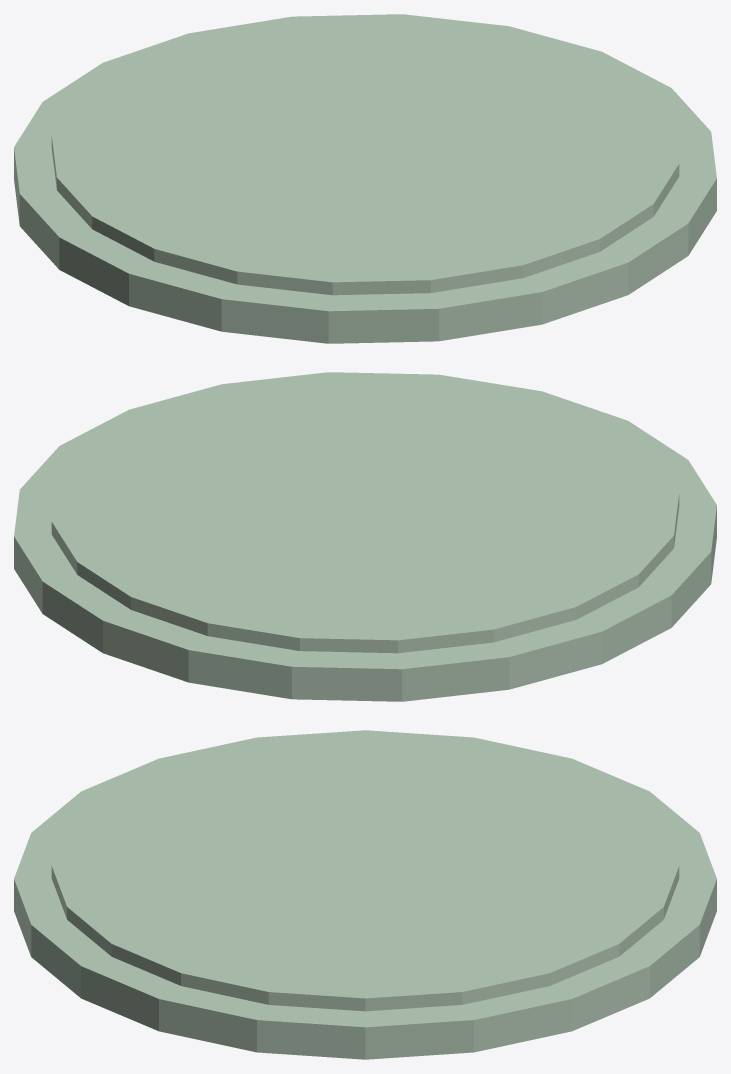
File: Platform_Plate1_moving.fbx
3 renders of one model, top to bottom at view 1: azimuth 30°, elevation 25°; view 2: azimuth 150°, elevation 25°; view 3: azimuth 270°, elevation 25°, orthographic.
Parts seen in each view (by area): view 1: pCone1; view 2: pCone1; view 3: pCone1.
Part boxes in pixels (bbox=[...]): pCone1: bbox=[14, 14, 716, 343]; pCone1: bbox=[14, 372, 716, 701]; pCone1: bbox=[14, 730, 716, 1059].
Bounding box in the file's own units: 9.07 × 0.6441 × 9.07.
